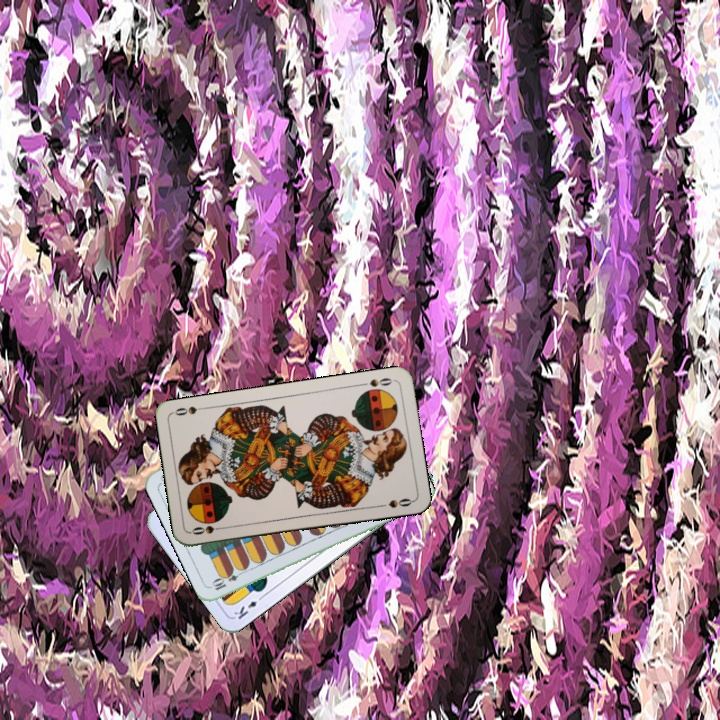E10: (208, 566, 247, 593)
EK: (230, 591, 266, 622)
SO: (187, 521, 228, 537), (356, 374, 397, 389)
